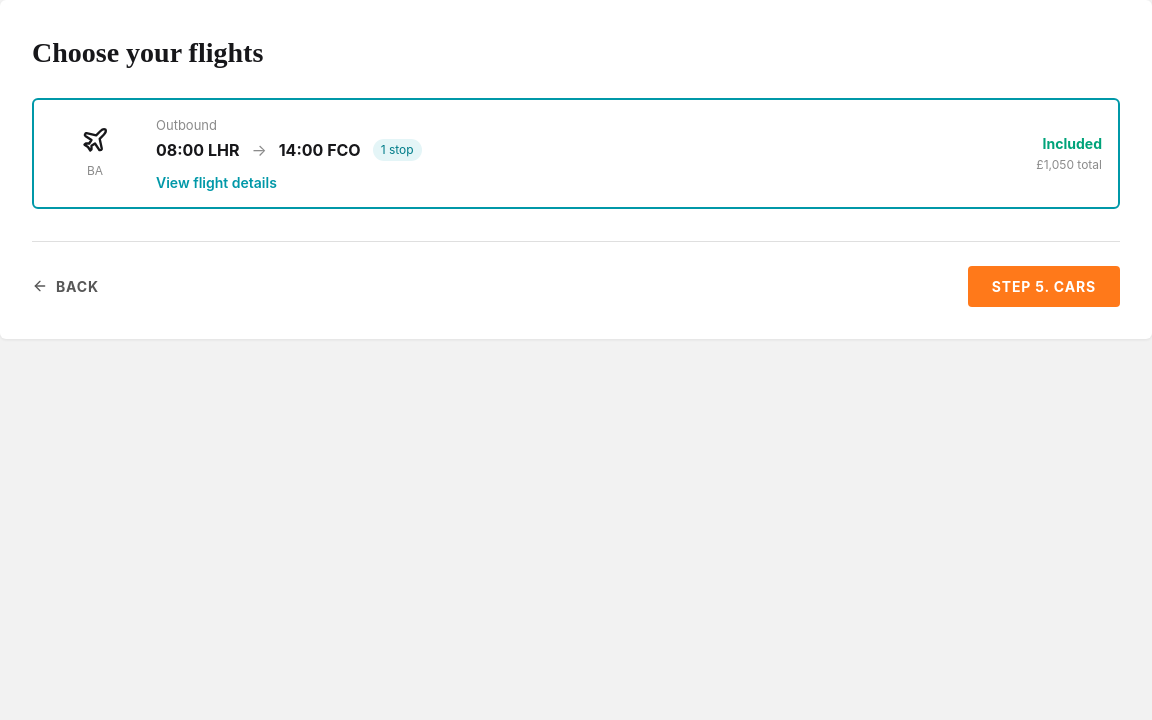
FlightsStep details modal › renders a connecting leg with a layover row and stop count
Click the button "View flight details" at (216, 182), box [156, 174, 277, 190]
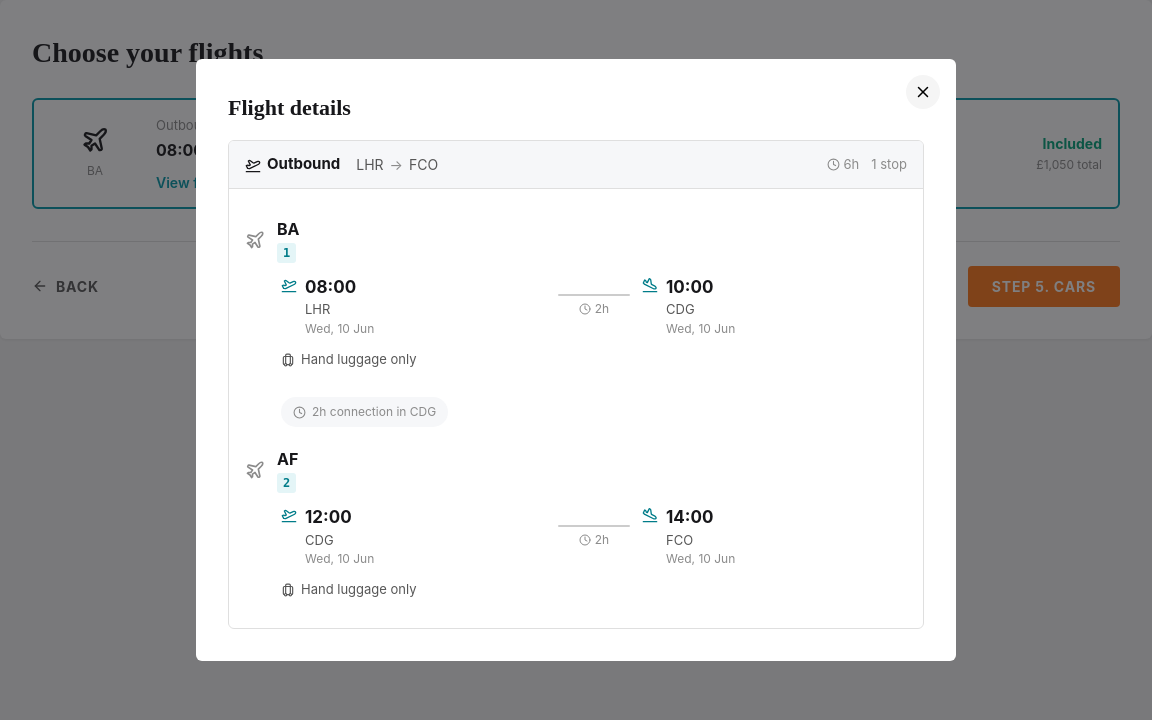
Result: the text "2h connection in CDG" is shown at [312, 403, 436, 421]
Result: the text "1 stop" is shown at [871, 155, 907, 174]
